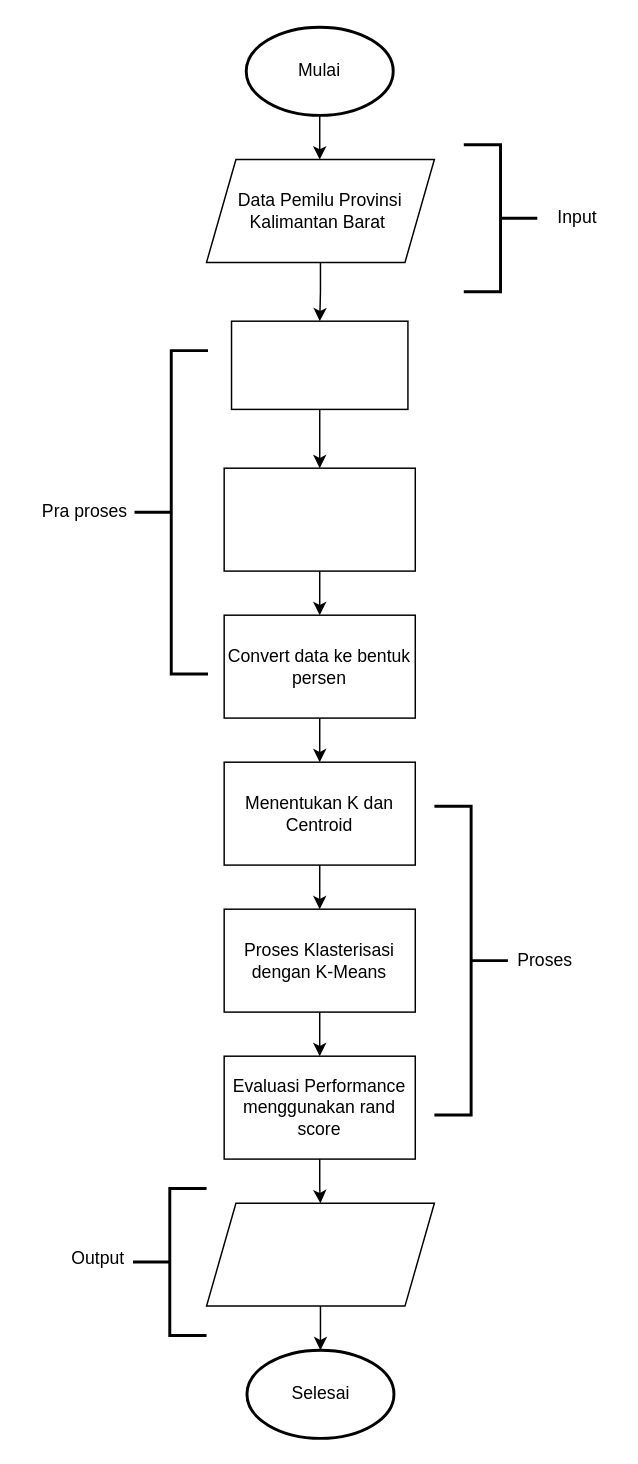
Some shapes in this 638 by 1464 pixel diagram are drawn without their labels. Each missing label, with the centre of its shape:
"Cleaning data" belongs at point 319,364.
"Hasil Klasterisasi" belongs at point 319,1254.
"Segmentasi data bedasarkan kecamatan di kabupaten kota" belongs at point 319,519.
